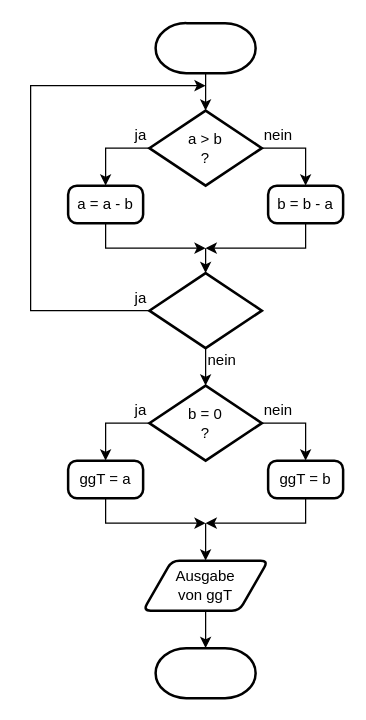
The diagram is 366 pixels wide and 720 high, and some of its shapes have lost their labels. Each missing label, with the centre of its shape:
a > 0 und b > 0 ?: point 205,310
Start: point 205,47
Stopp: point 205,672
